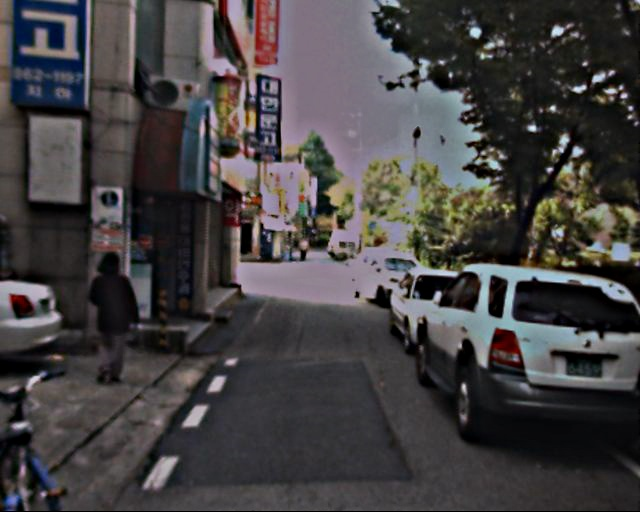person: (85, 247, 145, 383)
